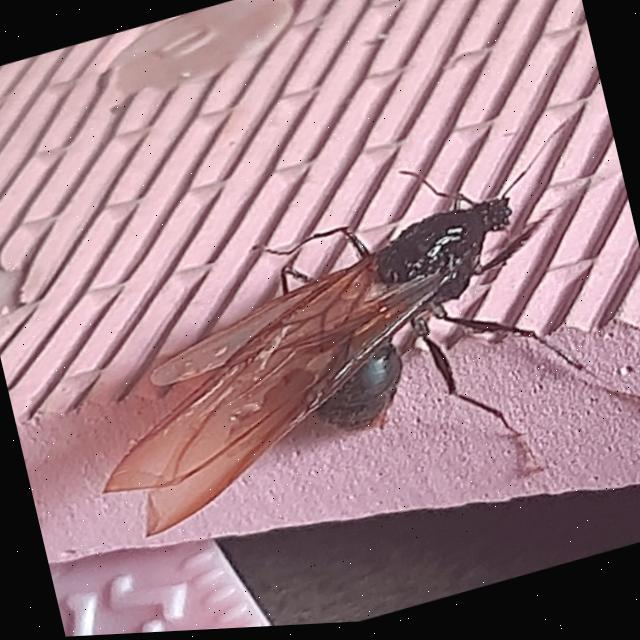Alive-Male-Alate: (50, 116, 640, 592)
